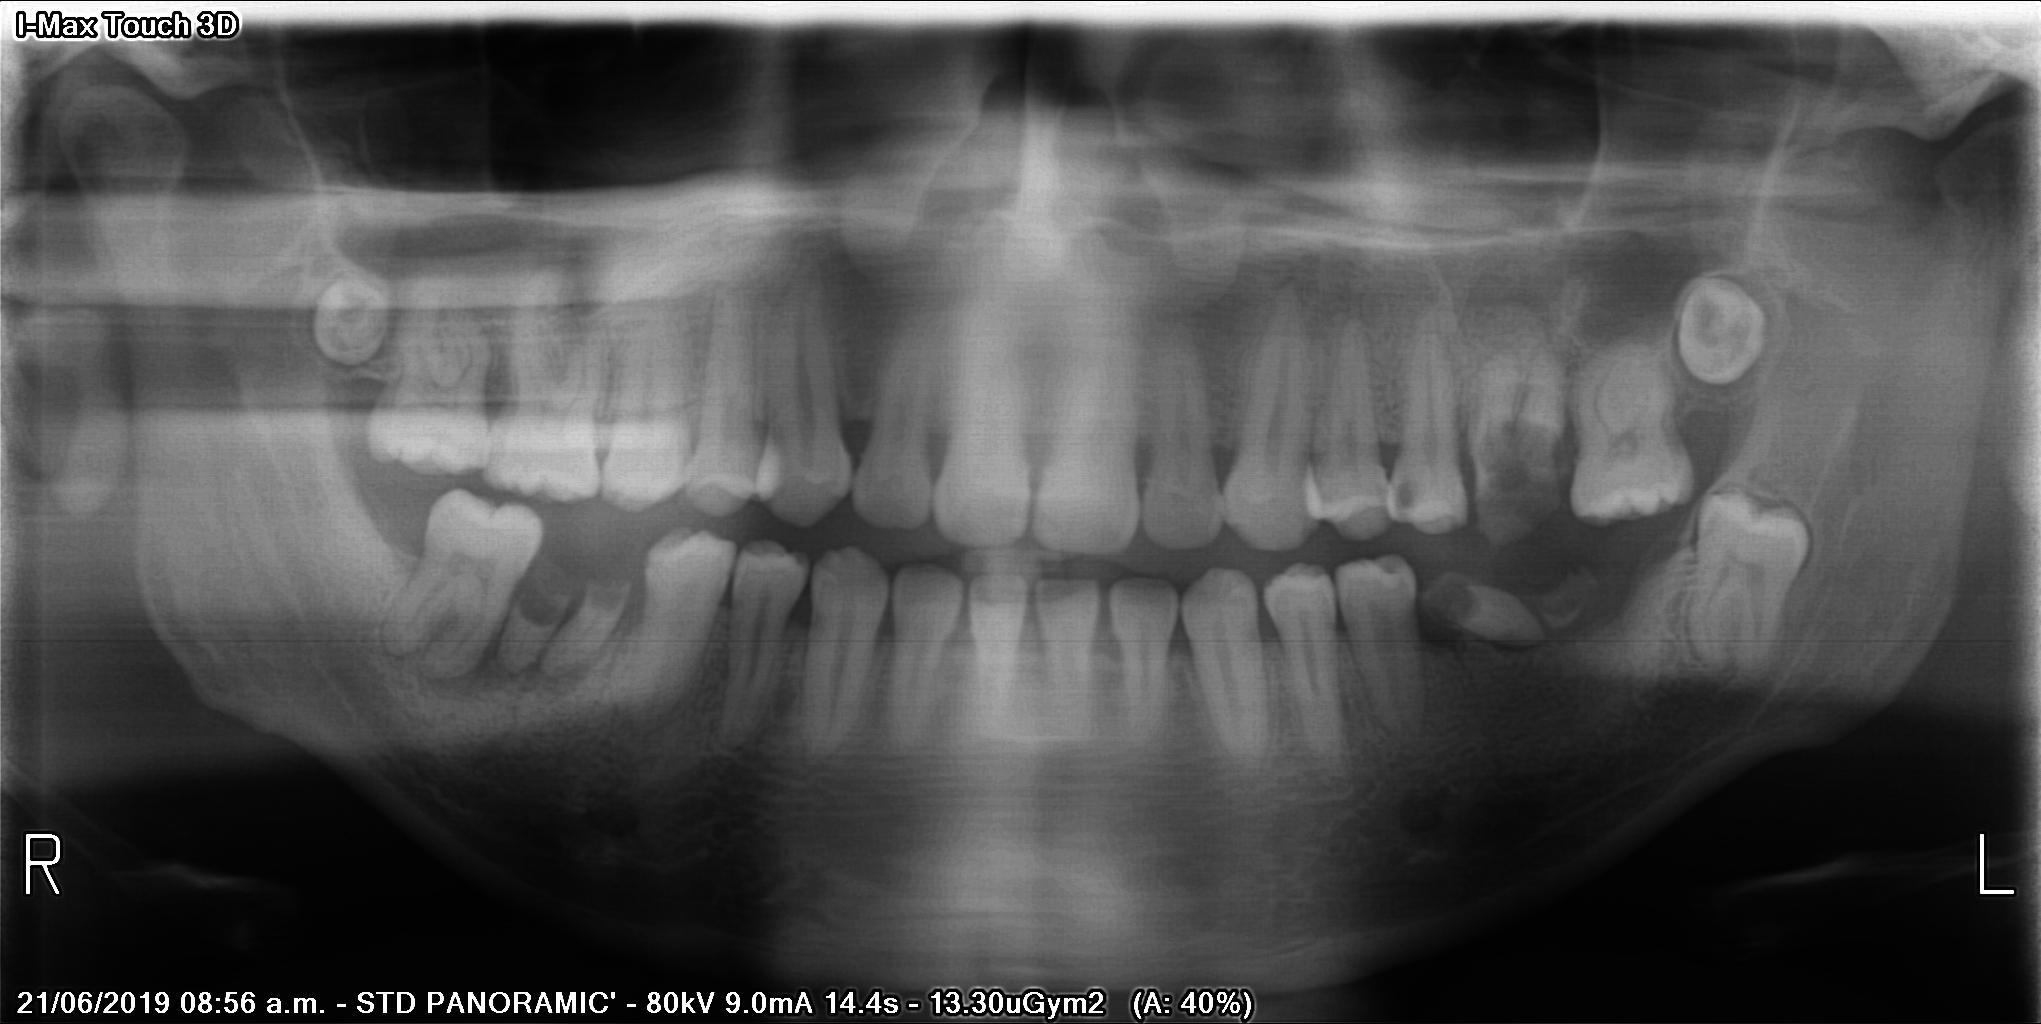Çürük Bölgesi: (1476, 460, 1559, 534), (517, 582, 560, 632), (1394, 479, 1414, 513)
